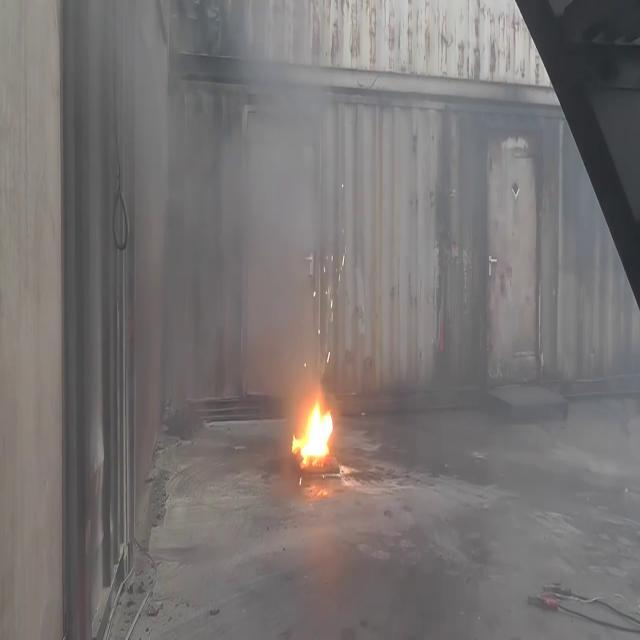Fire: (292, 389, 338, 472)
Smoke: (105, 2, 348, 414)
